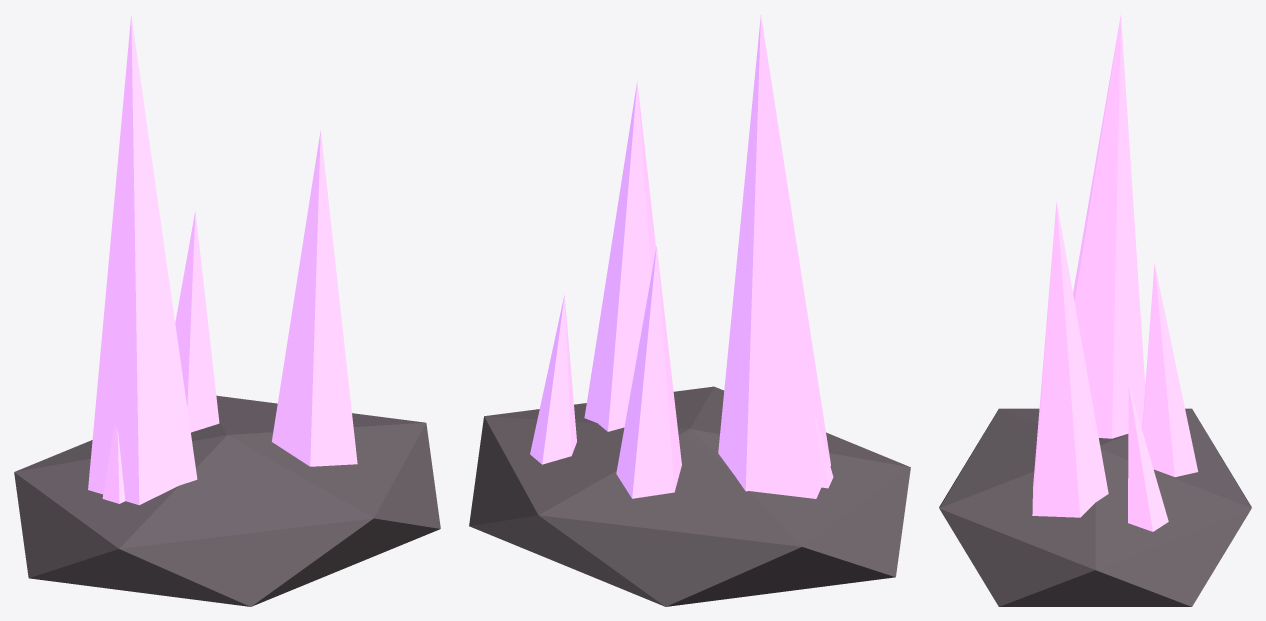
The model's file is crystal_cluster.glb.
The picture shows the model from 3 angles, left to right: view 1: azimuth 30°, elevation 25°; view 2: azimuth 150°, elevation 25°; view 3: azimuth 270°, elevation 25°; orthographic projection. The views are drawn at different scales.
Visible parts, largest first — view 1: crystal_cluster; view 2: crystal_cluster; view 3: crystal_cluster.
Boxes of the visible parts, bbox=[...] form: crystal_cluster: bbox=[14, 15, 440, 606]; crystal_cluster: bbox=[469, 15, 910, 606]; crystal_cluster: bbox=[939, 15, 1251, 606].
Size of the model in its own units: 0.7728 by 1.04 by 0.5716.
